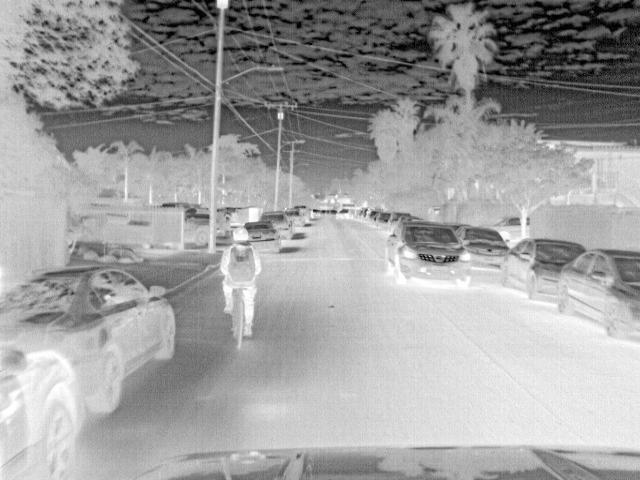car: (2, 265, 177, 417), (4, 348, 80, 475), (553, 248, 640, 340), (385, 223, 472, 291), (498, 239, 586, 305), (455, 228, 510, 276), (245, 221, 283, 256), (256, 212, 295, 243), (184, 214, 210, 248), (386, 210, 413, 232), (293, 204, 314, 224), (375, 211, 392, 229), (335, 206, 353, 220)
person: (219, 226, 263, 338)
